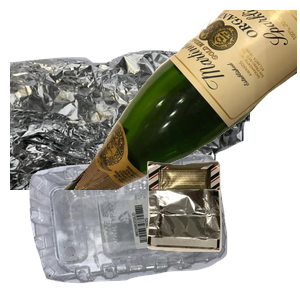glass: (60, 10, 300, 190)
metal: (10, 47, 250, 227)
plastic: (27, 152, 247, 300)
trash: (144, 158, 300, 300)
